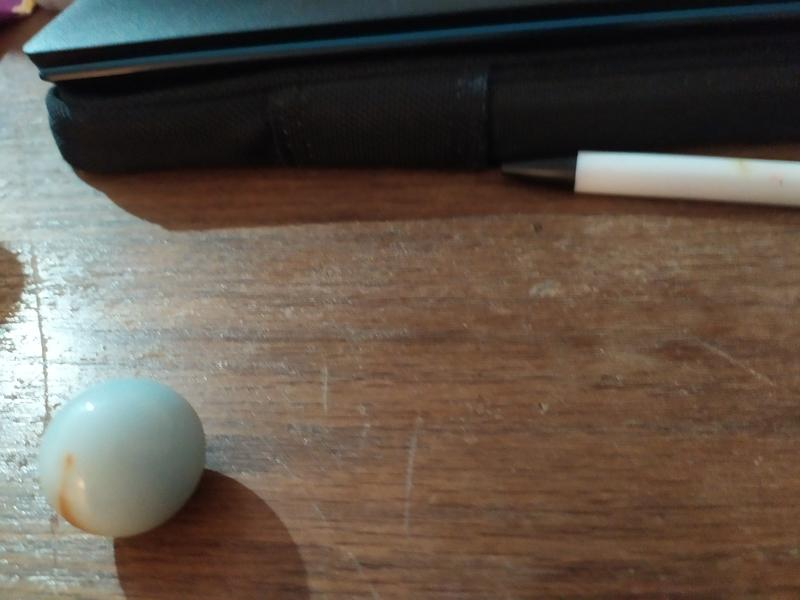Warning: (34, 373, 210, 541)
